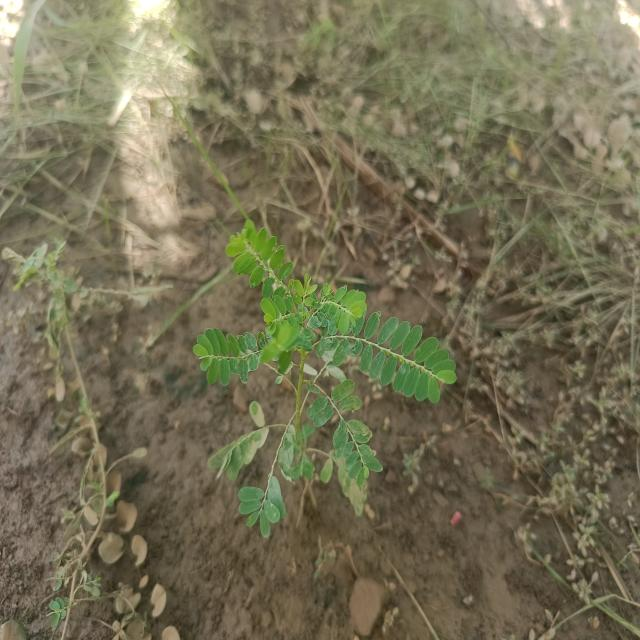weed: (188, 219, 462, 547)
